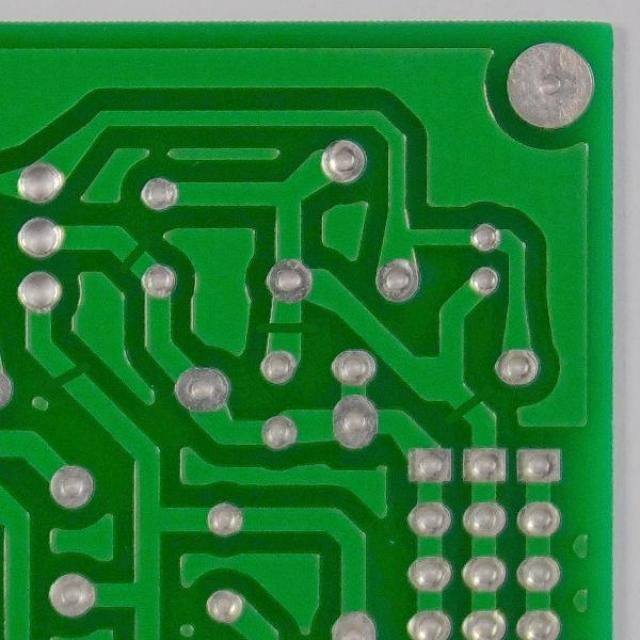Open_Circuit: (440, 381, 490, 429), (250, 311, 319, 344), (46, 352, 94, 396), (113, 232, 154, 278)
